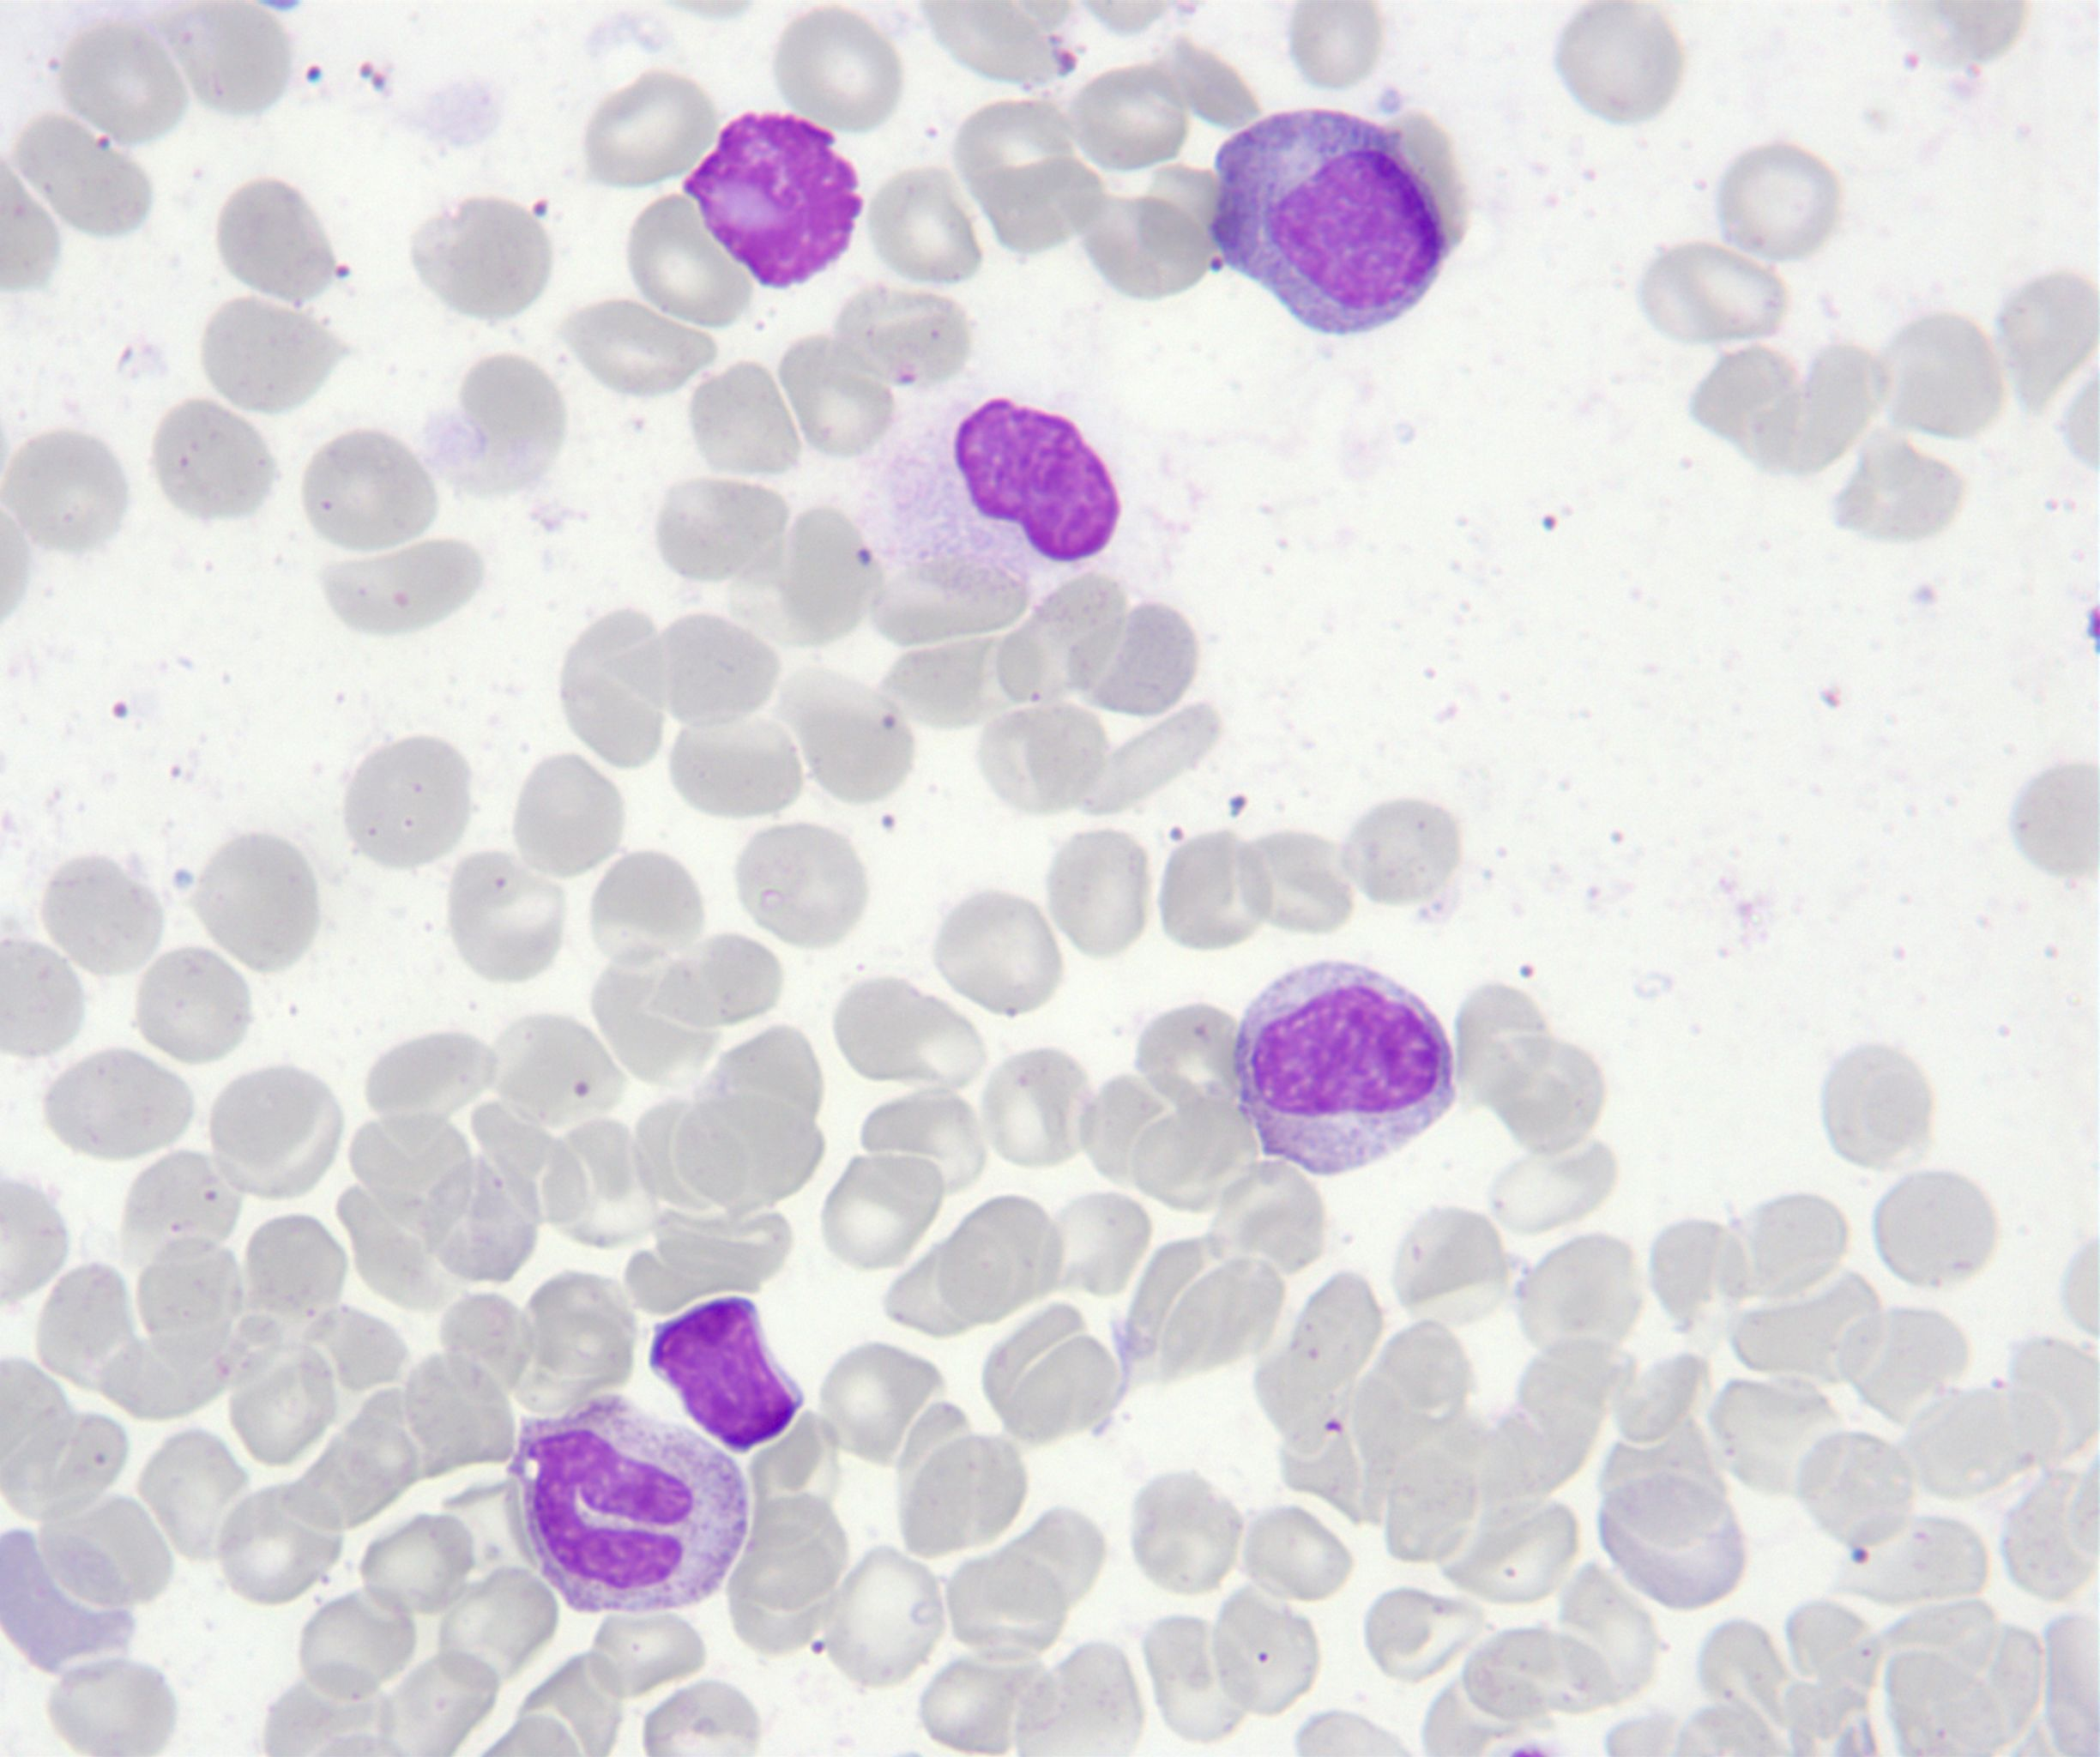3: (1210, 110, 1446, 337), (1233, 963, 1458, 1174)
32: (651, 1296, 804, 1452)
5: (506, 1396, 747, 1610)
x: (849, 398, 1122, 595), (684, 113, 862, 290)
